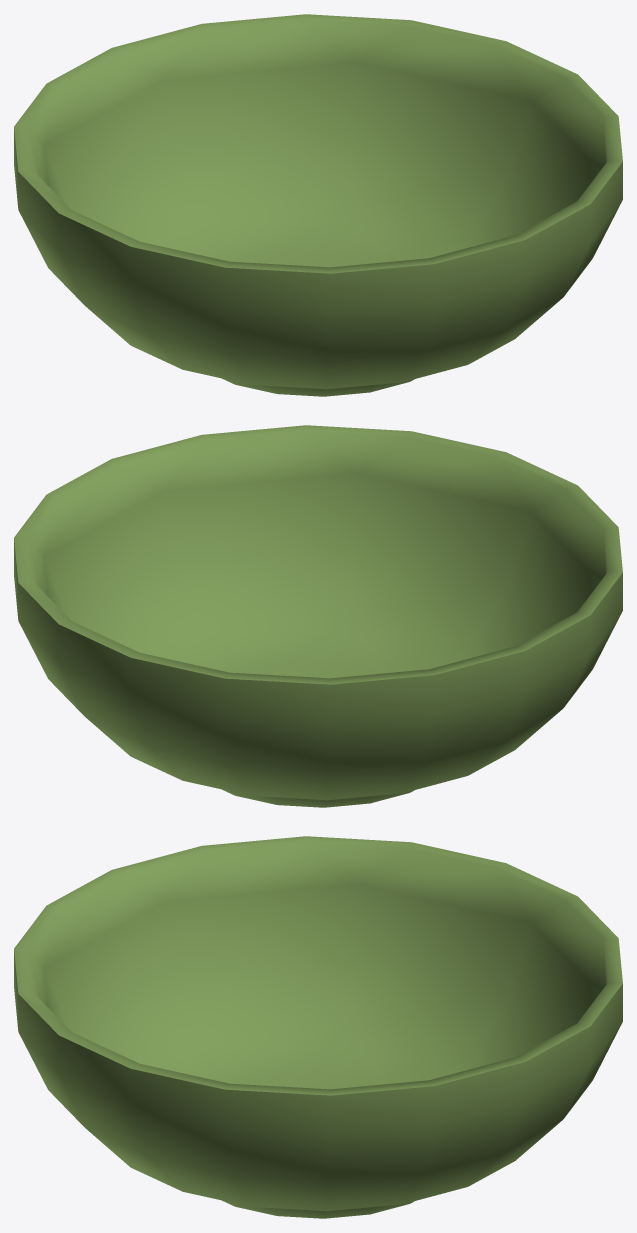
Rendered from Kitchen_Greenbowl.FBX.
3 views of the same model, one above another, from view 1: azimuth 30°, elevation 25°; view 2: azimuth 150°, elevation 25°; view 3: azimuth 270°, elevation 25° (orthographic).
Visible parts, largest first — view 1: Kitchen_greenBowl; view 2: Kitchen_greenBowl; view 3: Kitchen_greenBowl.
Boxes of the visible parts, x1=… form: Kitchen_greenBowl: x1=14, y1=14, x2=622, y2=396; Kitchen_greenBowl: x1=14, y1=425, x2=622, y2=807; Kitchen_greenBowl: x1=14, y1=836, x2=622, y2=1218.
Size of the model in its own units: 0.1576 by 0.0553 by 0.1563.
